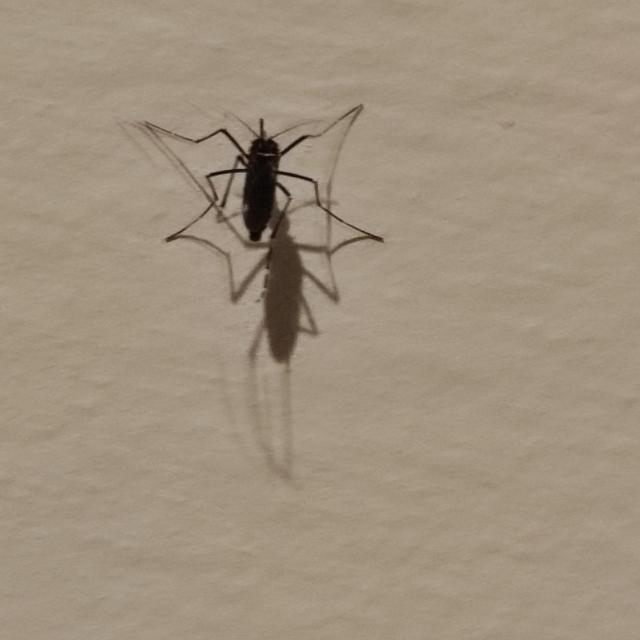albopictus: (126, 100, 387, 354)
